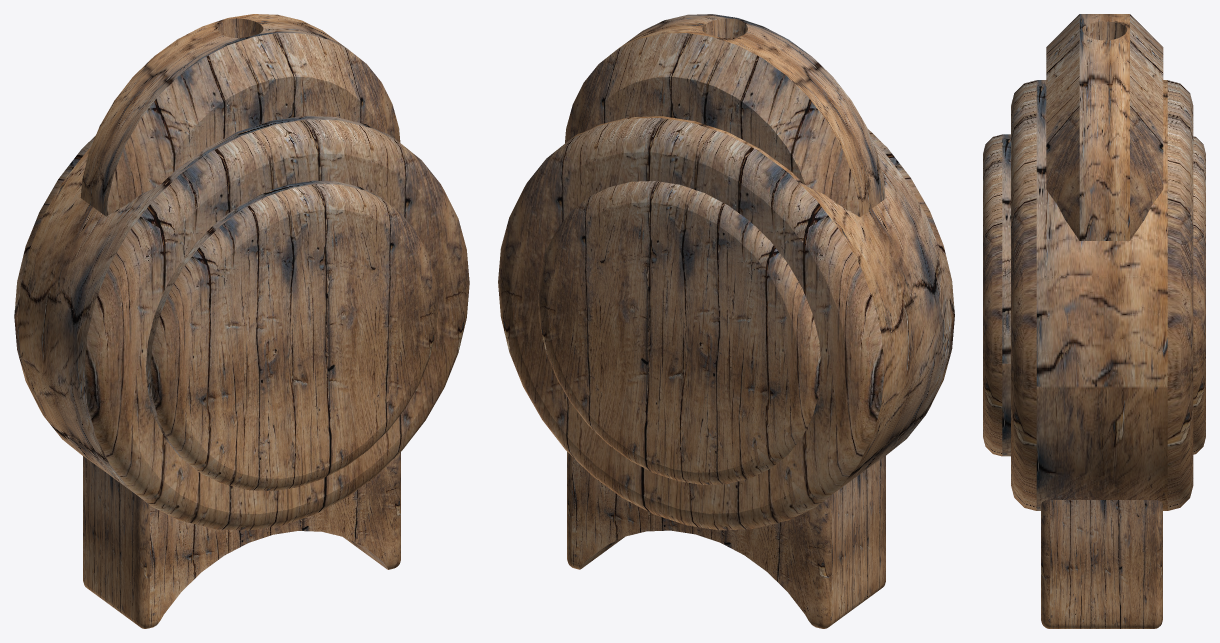
The model's file is BottleBody.fbx.
The picture shows the model from 3 angles, left to right: view 1: azimuth 30°, elevation 25°; view 2: azimuth 150°, elevation 25°; view 3: azimuth 270°, elevation 25°; orthographic projection. The views are drawn at different scales.
Visible parts, largest first — view 1: Extrude, Extrude_2, Extrude_3, Cube, Cone; view 2: Extrude, Extrude_2, Extrude_3, Cube, Cone; view 3: Extrude, Extrude_3, Cube, Extrude_2, Cone.
Boxes of the visible parts, <box> form: Extrude: <box>14,115,469,530</box>; Extrude_2: <box>146,180,437,490</box>; Extrude_3: <box>80,14,400,216</box>; Cube: <box>83,452,400,628</box>; Cone: <box>218,18,263,37</box>; Extrude: <box>498,116,954,530</box>; Extrude_2: <box>537,181,821,484</box>; Extrude_3: <box>565,14,885,217</box>; Cube: <box>567,452,885,628</box>; Cone: <box>702,18,747,37</box>; Extrude: <box>1011,80,1193,510</box>; Extrude_3: <box>1046,14,1163,240</box>; Cube: <box>1041,500,1162,628</box>; Extrude_2: <box>983,134,1205,456</box>; Cone: <box>1082,21,1127,40</box>.
Bounding box in the file's own units: 145 × 200 × 74.94.
1 material, 1 textured.
